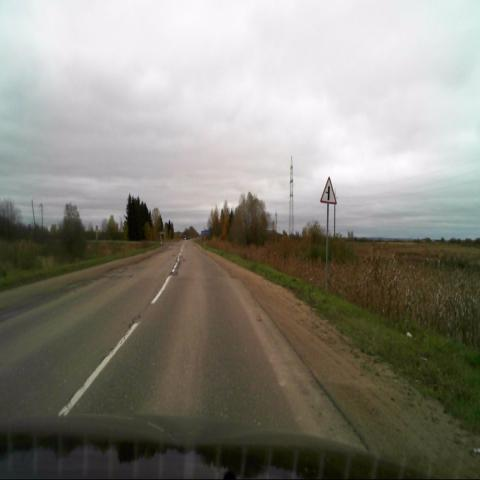2_3_3: (320, 176, 337, 204)
